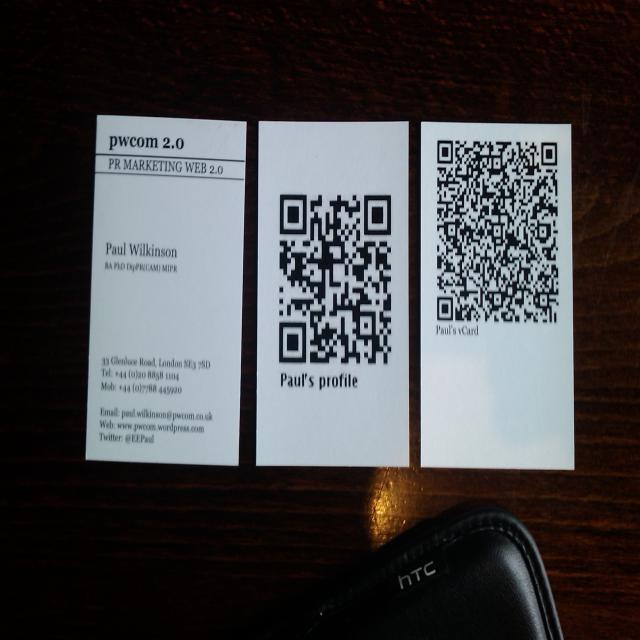qrcode: (438, 141, 560, 323), (280, 196, 392, 365)
